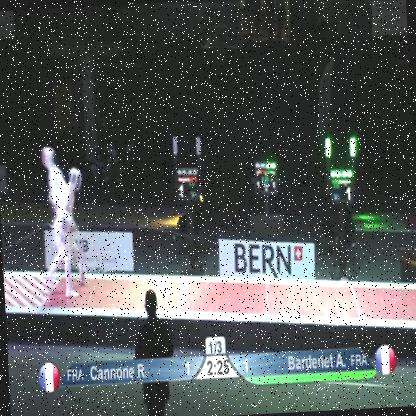fencer: (32, 136, 88, 293), (42, 167, 88, 305)
referee: (120, 275, 191, 415)
